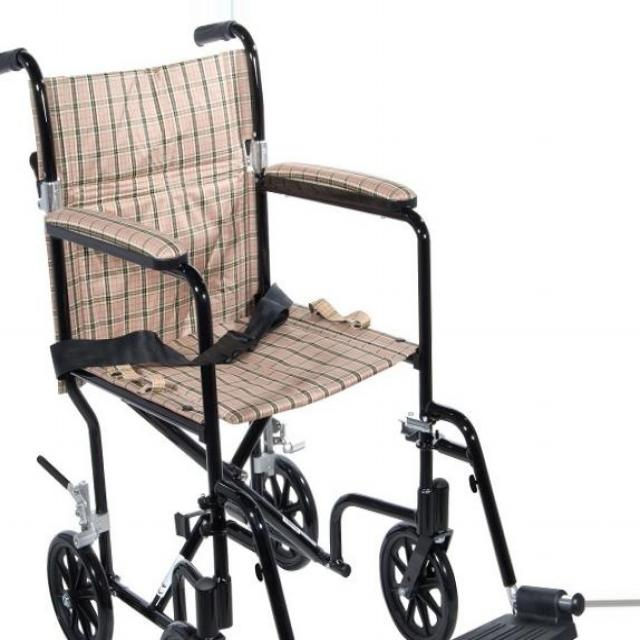wheelchair: (0, 7, 597, 640)
